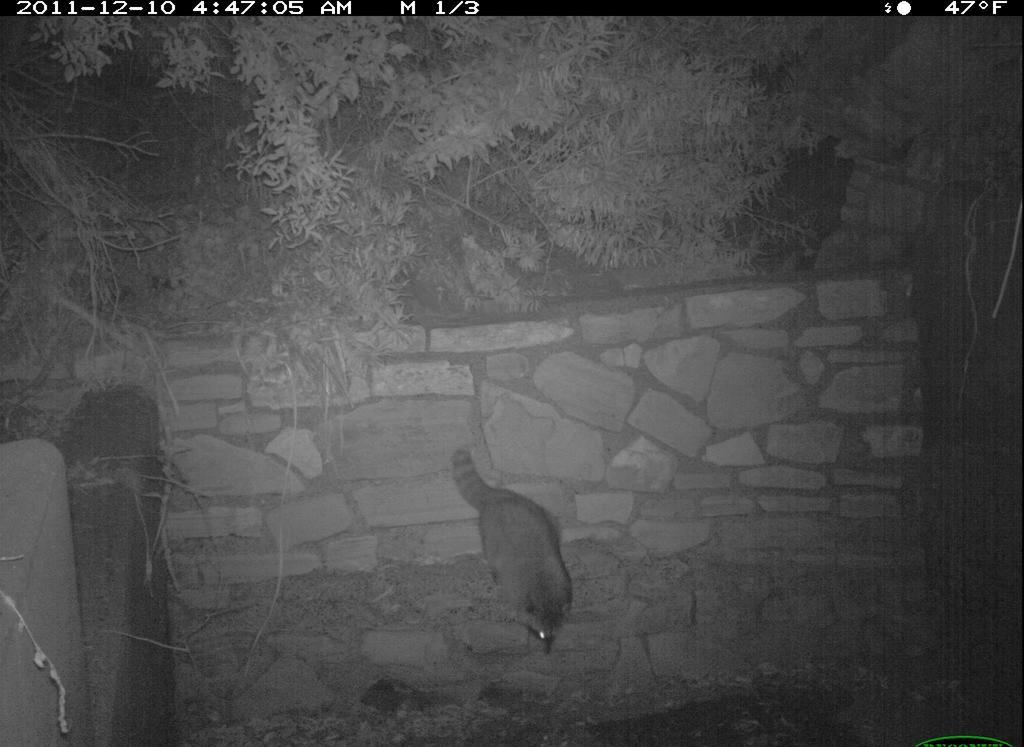raccoon: (446, 439, 583, 665)
